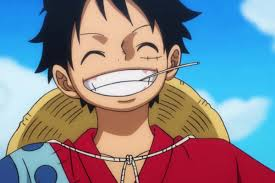luffy: (21, 1, 232, 167)
